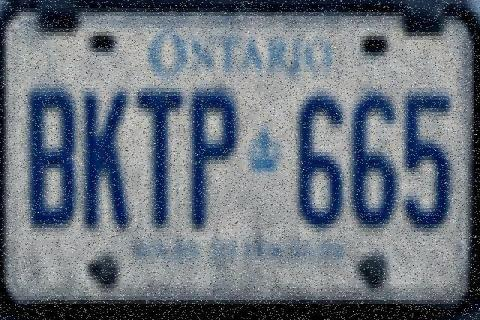LicensePlate: (4, 6, 474, 305)
